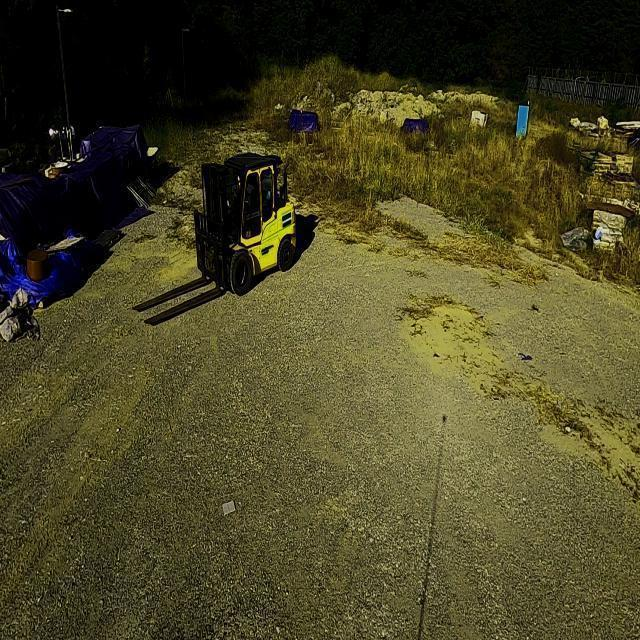forklift: (197, 155, 299, 290)
